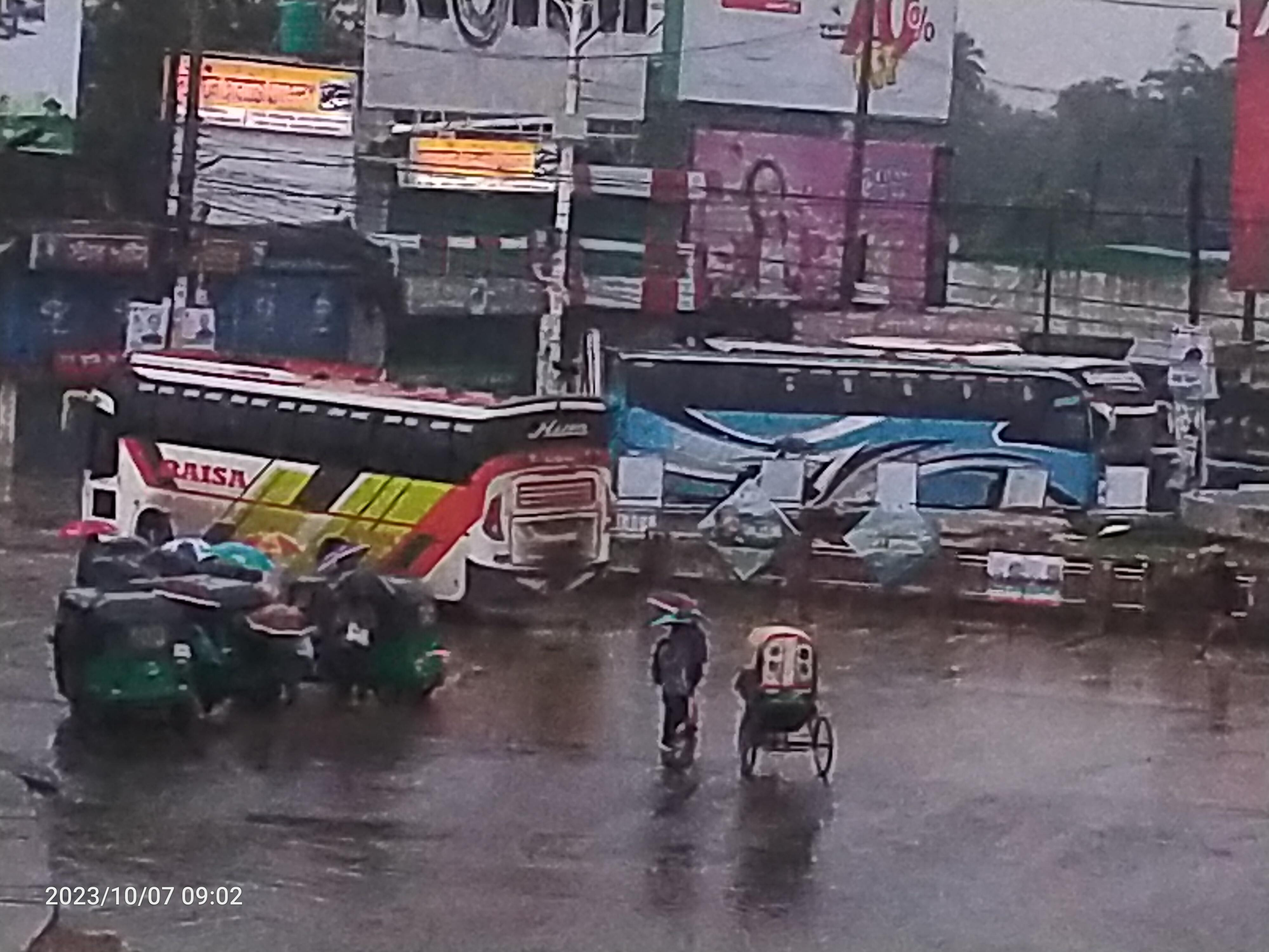Bus: (41, 290, 647, 646), (561, 299, 1190, 600)
Car: (698, 598, 884, 811)
